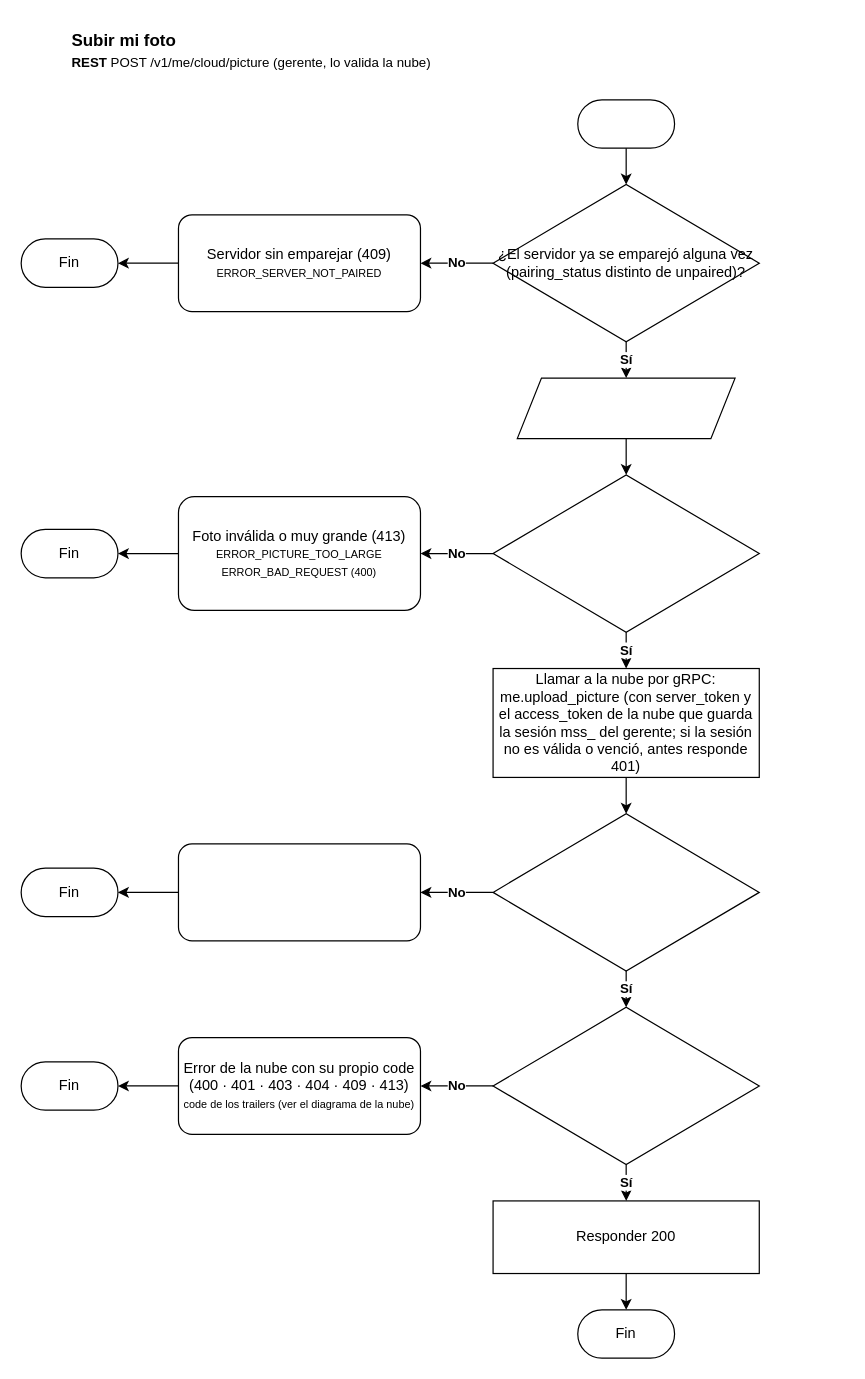
Image size: 865x1379. Some labels were removed from this diagram. The box of each missing label's shape, as (x1, y1, x2, y2) in pixels:
Inicio: (577, 99, 675, 148)
La nube no responde (503) ERROR_CLOUD_UNAVAILABLE · ERROR_SERVER_UNLINKED: (177, 843, 420, 941)
Recibir la foto (campo picture): (516, 377, 735, 439)
¿Es JPG, PNG o WEBP y no pasa del límite?: (492, 474, 759, 632)
¿La nube acepta la petición?: (492, 1006, 759, 1165)
¿La nube responde antes de 10 s?: (492, 813, 759, 971)
